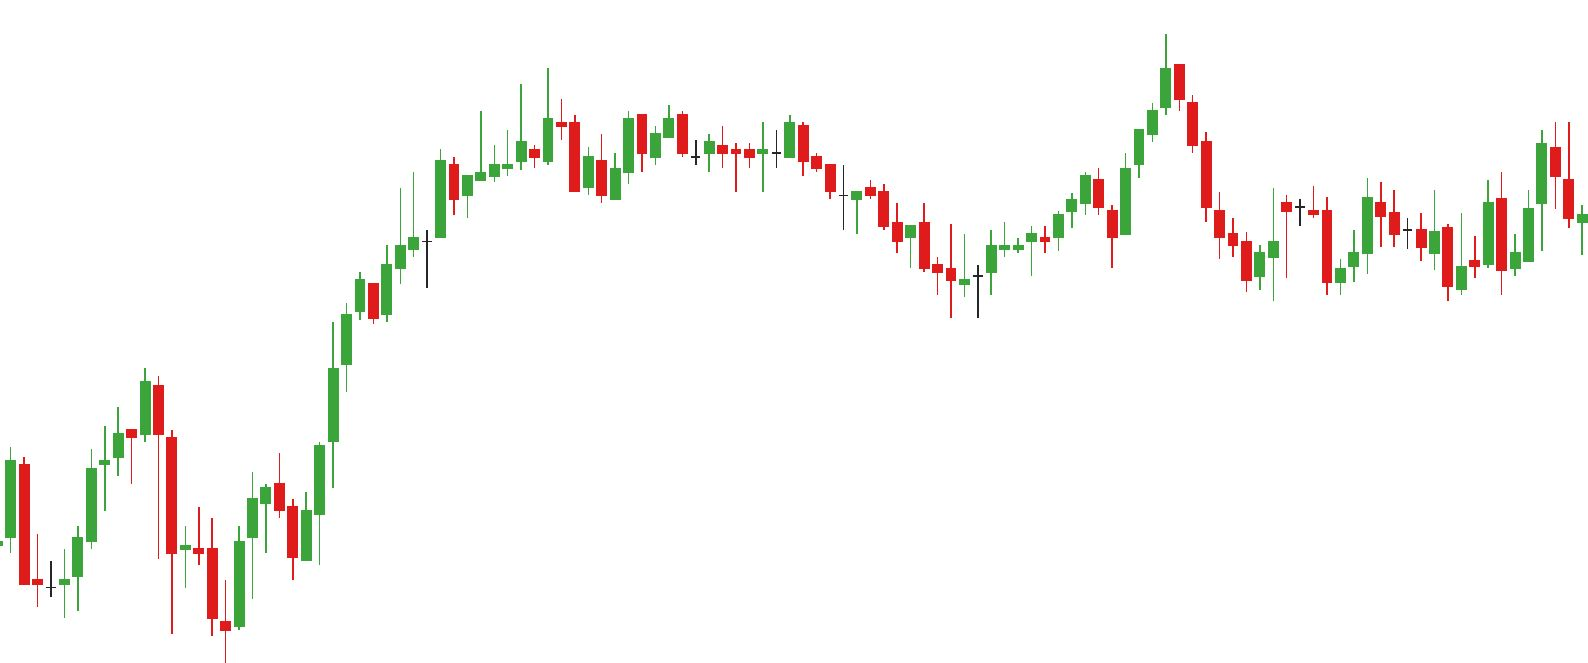buy: (59, 442, 191, 639)
